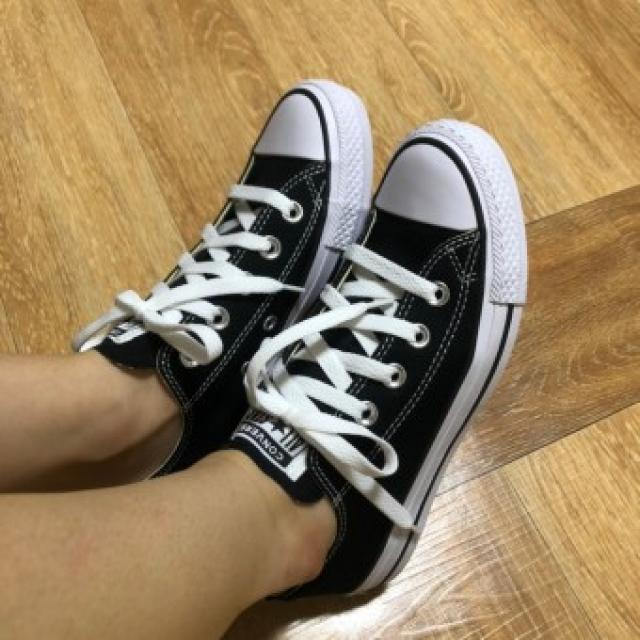no-boots: (310, 103, 538, 640)
